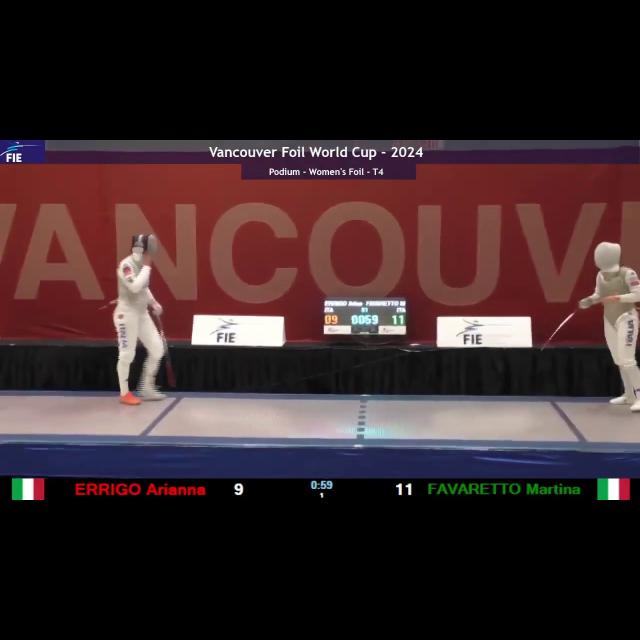blade: (542, 297, 590, 353), (151, 306, 177, 388)
